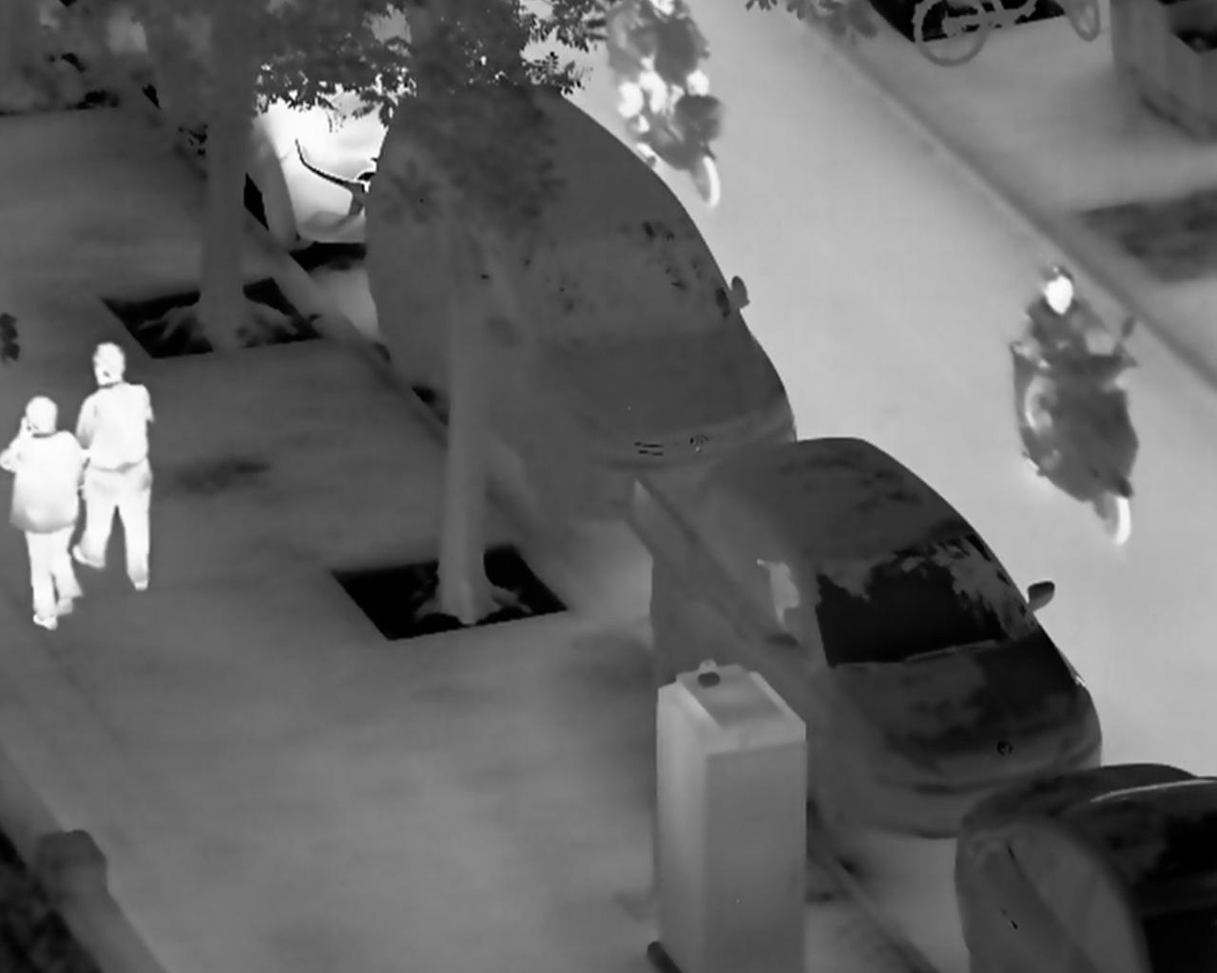person: (1013, 262, 1140, 481), (75, 341, 157, 594)
